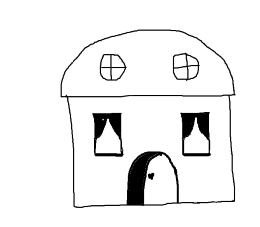door: (121, 148, 182, 211)
open_window: (180, 112, 211, 156), (93, 114, 123, 156)
roof: (55, 22, 240, 100)
wall: (66, 90, 242, 211)
